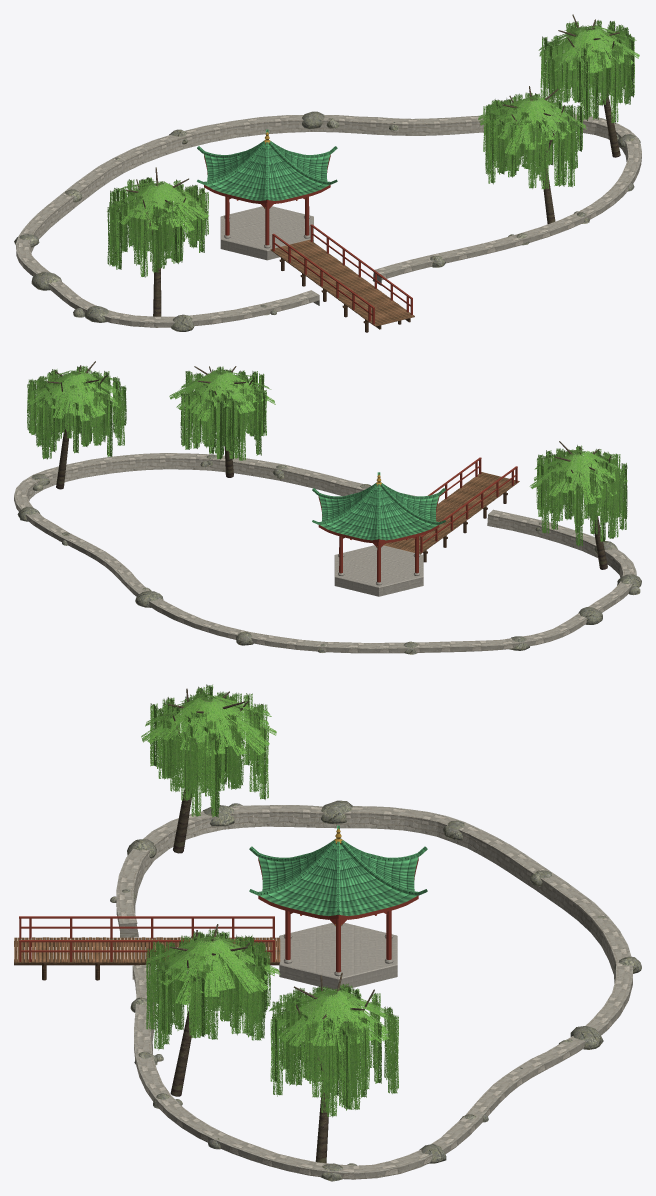
Rendered from campus_lake.glb.
The picture shows the model from 3 angles, top to bottom: view 1: azimuth 30°, elevation 25°; view 2: azimuth 150°, elevation 25°; view 3: azimuth 270°, elevation 25°; orthographic projection. The views are drawn at different scales.
Parts seen in each view (by area): view 1: lake_willow_willow, lake_rim_stone, lake_pavilion_tile, lake_boardwalk_plank, lake_pavilion_granite, lake_rocks_rock, lake_willow_bark, lake_boardwalk_red, lake_pavilion_red; view 2: lake_willow_willow, lake_rim_stone, lake_pavilion_tile, lake_pavilion_granite, lake_boardwalk_plank, lake_rocks_rock, lake_willow_bark, lake_boardwalk_red, lake_pavilion_red; view 3: lake_willow_willow, lake_rim_stone, lake_pavilion_tile, lake_pavilion_granite, lake_rocks_rock, lake_boardwalk_plank, lake_boardwalk_red, lake_willow_bark, lake_pavilion_red, lake_boardwalk_pile.
Boxes of the visible parts, x1,y1,x2,y2 form: lake_willow_willow: (107,20,639,277); lake_rim_stone: (16,114,641,327); lake_pavilion_tile: (197,129,337,200); lake_boardwalk_plank: (270,239,414,326); lake_pavilion_granite: (220,206,313,260); lake_rocks_rock: (14,111,640,331); lake_willow_bark: (126,14,620,316); lake_boardwalk_red: (272,224,412,324); lake_pavilion_red: (204,154,330,245); lake_willow_willow: (27,366,627,546); lake_rim_stone: (14,453,636,653); lake_pavilion_tile: (312,472,445,540); lake_pavilion_granite: (334,545,423,596); lake_boardwalk_plank: (384,472,519,554); lake_rocks_rock: (17,454,641,654); lake_willow_bark: (47,361,611,569); lake_boardwalk_red: (385,457,517,552); lake_pavilion_red: (318,496,439,582); lake_willow_willow: (141,684,398,1117); lake_rim_stone: (116,805,632,1179); lake_pavilion_tile: (249,825,427,916); lake_pavilion_granite: (279,922,397,989); lake_rocks_rock: (110,800,641,1181); lake_boardwalk_plank: (14,937,280,963); lake_boardwalk_red: (19,916,274,961); lake_willow_bark: (168,688,374,1163); lake_pavilion_red: (258,857,418,972); lake_boardwalk_pile: (14,941,279,980).
Bounding box in the file's own units: 34.84 × 7.76 × 24.77.
Materials: 13 (9 with a texture image).
